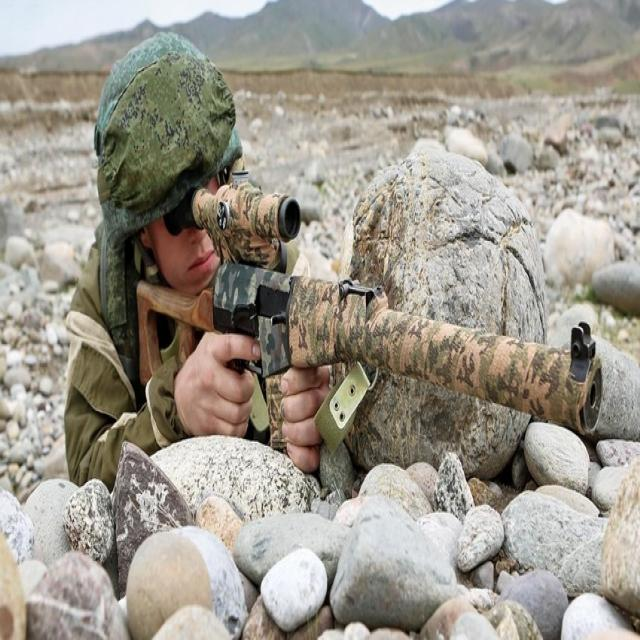Rifle: (136, 186, 596, 454)
